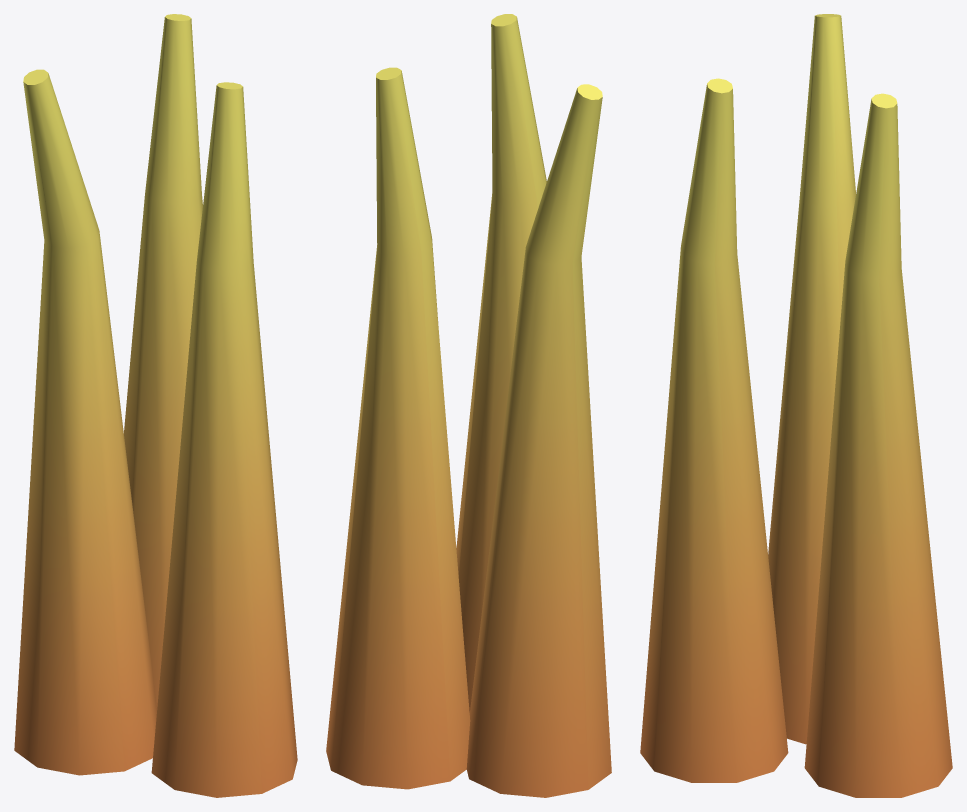
The model's file is Grass_E.fbx.
3 renders of one model, left to right at view 1: azimuth 30°, elevation 25°; view 2: azimuth 150°, elevation 25°; view 3: azimuth 270°, elevation 25°, orthographic.
Visible parts, largest first — view 1: Grass_E; view 2: Grass_E; view 3: Grass_E.
Part boxes in pixels (x1,y1,x2,y2): Grass_E: (14, 14, 297, 797); Grass_E: (326, 14, 611, 797); Grass_E: (640, 14, 952, 797).
Size of the model in its own units: 39.96 by 111 by 46.49.
